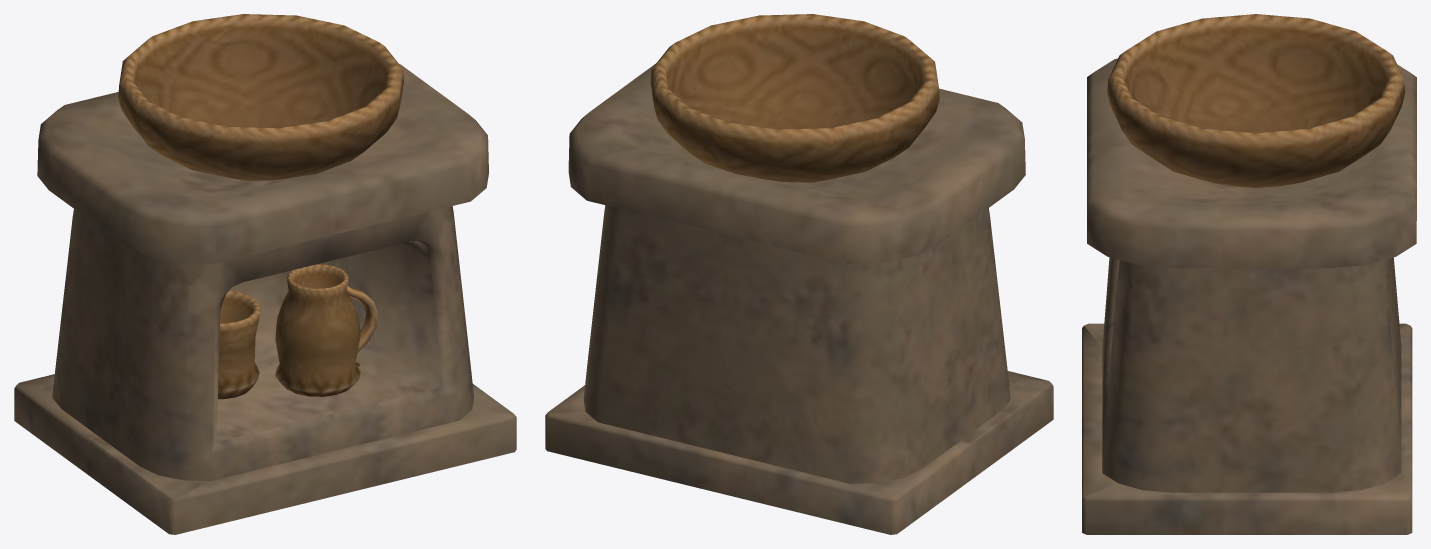
Rendered from comfort4_t3_bathroomsink.glb.
3 views of the same model, side by side, from view 1: azimuth 30°, elevation 25°; view 2: azimuth 150°, elevation 25°; view 3: azimuth 270°, elevation 25° (orthographic). The views are drawn at different scales.
Visible parts, largest first — view 1: steppeprops_sink_01; view 2: steppeprops_sink_01; view 3: steppeprops_sink_01.
Boxes of the visible parts, x1,y1,x2,y2 form: steppeprops_sink_01: [14, 14, 516, 534]; steppeprops_sink_01: [545, 14, 1053, 534]; steppeprops_sink_01: [1082, 14, 1416, 534].
Bounding box in the file's own units: 1.04 × 1.01 × 0.8239.
2 materials, 2 textured.
